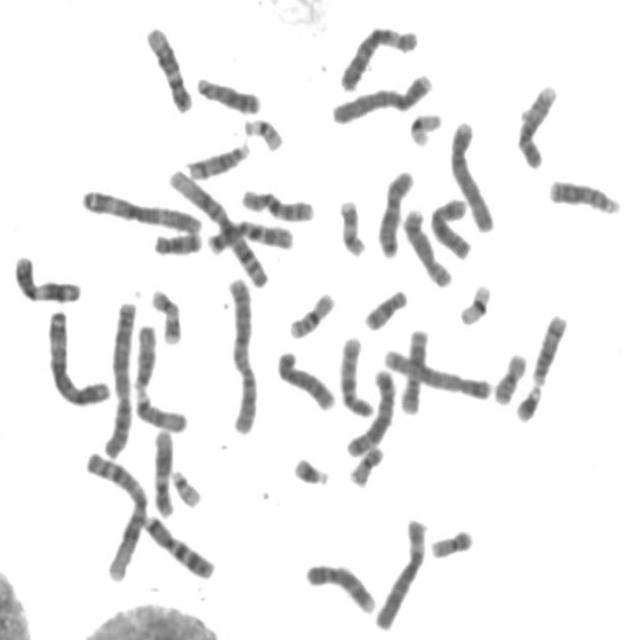A1: (163, 162, 271, 290), (80, 443, 152, 584)
A2: (99, 292, 141, 460), (221, 269, 262, 436)
A3: (42, 302, 114, 408), (76, 181, 206, 236)
B4: (326, 65, 436, 126), (446, 114, 498, 234)
B5: (380, 341, 496, 402), (342, 362, 399, 458)
C10: (335, 330, 377, 419), (236, 181, 318, 223)
C11: (8, 247, 85, 306), (396, 322, 433, 416)
C12: (142, 19, 196, 114), (149, 424, 178, 518)
C6: (370, 511, 431, 632), (336, 18, 422, 93)
C7: (138, 507, 218, 581), (203, 213, 297, 256)
C8: (398, 200, 456, 288), (272, 344, 340, 412)
C9: (301, 556, 380, 615), (513, 77, 561, 169)
D13: (545, 172, 624, 216), (192, 68, 264, 115)
D14: (182, 134, 254, 181), (529, 307, 571, 387)
D15: (132, 386, 190, 434), (129, 317, 161, 393)
E16: (490, 344, 532, 420), (284, 285, 339, 340)
E17: (147, 280, 185, 346), (335, 192, 369, 259)
E18: (360, 282, 410, 332), (149, 225, 206, 258)
F19: (455, 276, 494, 327), (405, 105, 446, 148)
F20: (345, 438, 387, 488), (427, 521, 477, 560)
G21: (288, 450, 334, 488), (511, 378, 546, 423)
G22: (239, 111, 286, 152), (166, 462, 205, 508)
X: (373, 162, 418, 258), (426, 190, 475, 261)
